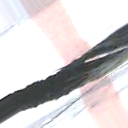crackTip: (1, 24, 128, 123)
